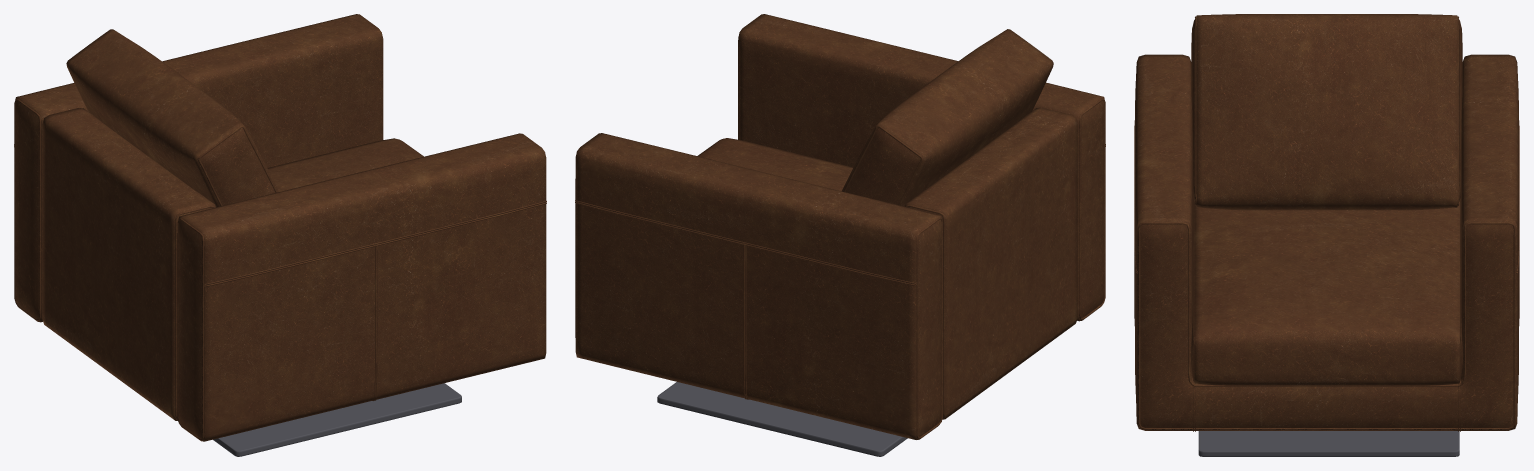
The picture shows the model from 3 angles, left to right: view 1: azimuth 30°, elevation 25°; view 2: azimuth 150°, elevation 25°; view 3: azimuth 270°, elevation 25°; orthographic projection.
Visible parts, largest first — view 1: AM121_042_00; view 2: AM121_042_00; view 3: AM121_042_00.
Part boxes in pixels (x1,y1,x2,y2): AM121_042_00: (14,14,546,456); AM121_042_00: (575,14,1105,456); AM121_042_00: (1134,14,1519,456).
Bounding box in the file's own units: 39.64 × 36.6 × 34.83.
2 materials, 1 textured.
